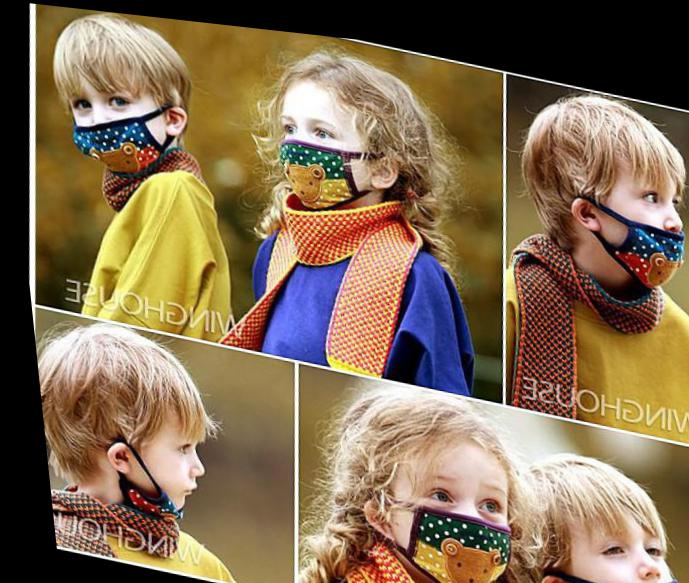OK: (377, 449, 513, 583), (266, 99, 374, 207)
WRONG: (564, 137, 689, 275), (536, 497, 679, 583), (60, 61, 170, 172), (102, 416, 201, 524)
